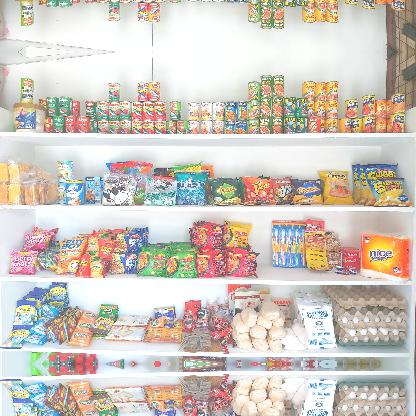Lady-s-Choice: (12, 102, 46, 132)
